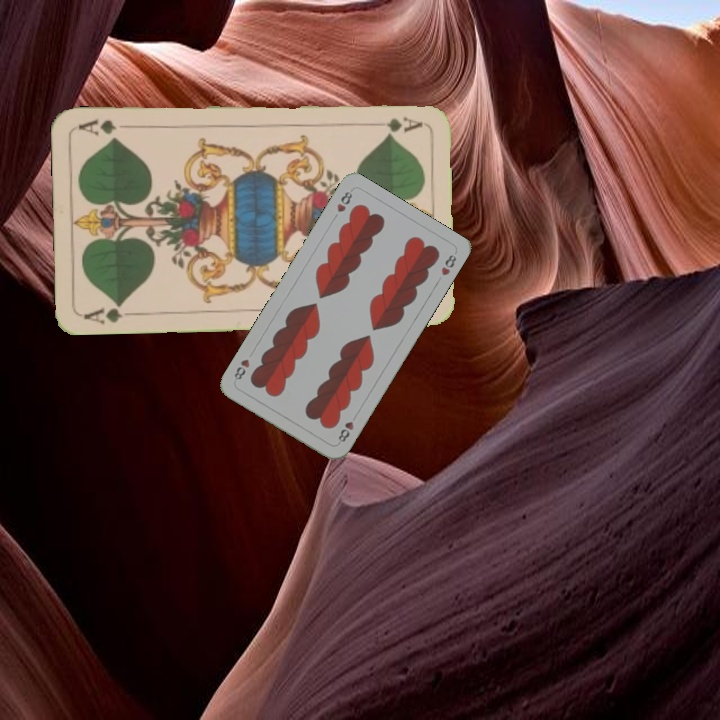GA: (80, 298, 139, 326), (365, 113, 424, 133)
H8: (333, 186, 355, 215), (334, 417, 356, 445)
